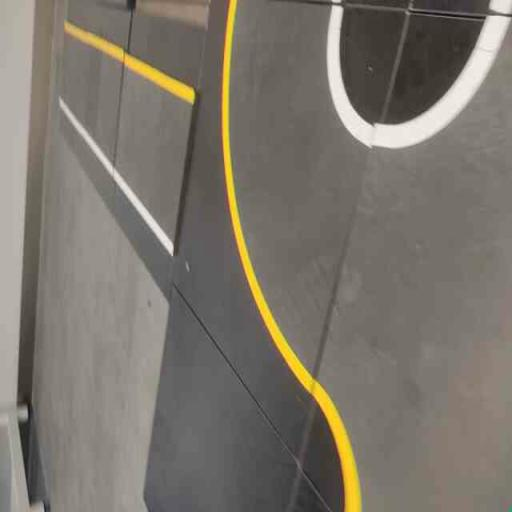right: (193, 0, 409, 458)
